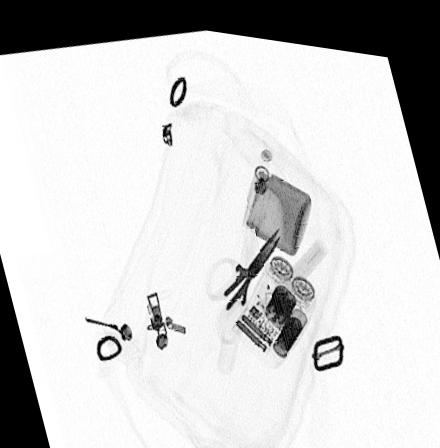Scissors: (202, 218, 281, 338)
